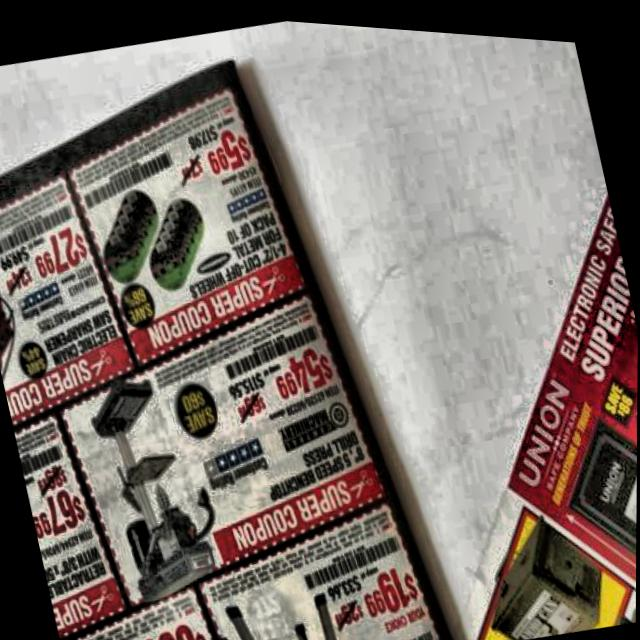Paper: (0, 18, 455, 640), (378, 168, 639, 640)
